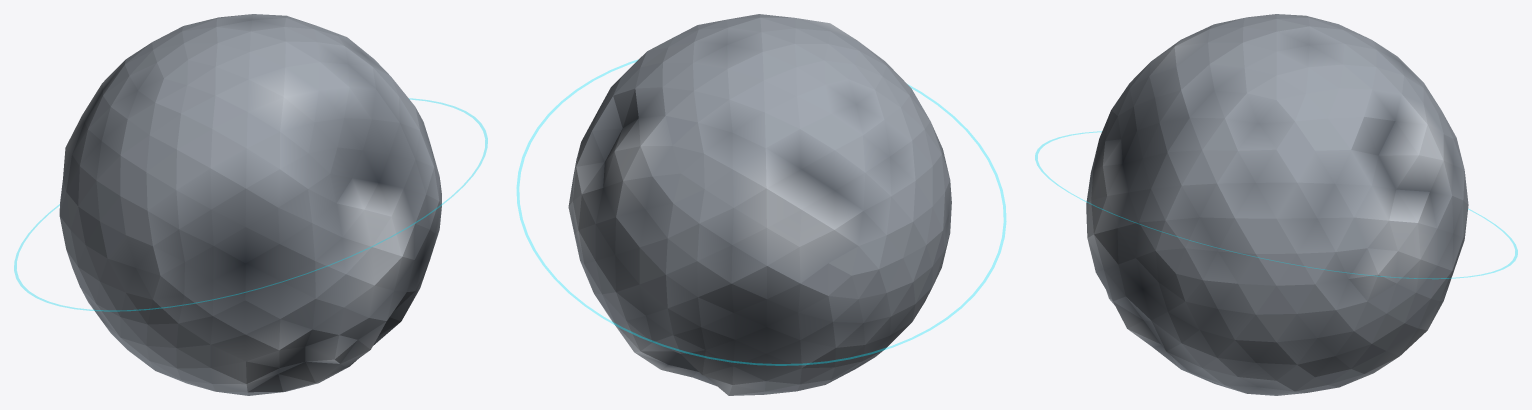
Rendered from moon_sphere.glb.
3 renders of one model, left to right at view 1: azimuth 30°, elevation 25°; view 2: azimuth 150°, elevation 25°; view 3: azimuth 270°, elevation 25°, orthographic.
Visible parts, largest first — view 1: The_Moon_Sphere; view 2: The_Moon_Sphere; view 3: The_Moon_Sphere.
Part boxes in pixels (<box>): The_Moon_Sphere: <box>14,14,487,395</box>; The_Moon_Sphere: <box>516,14,1006,395</box>; The_Moon_Sphere: <box>1035,14,1517,395</box>.
Size of the model in its own units: 5.06 by 4 by 5.05.
